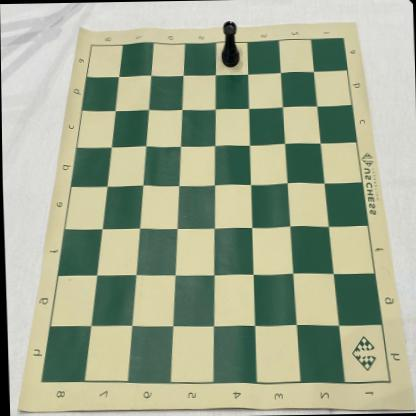black-rook: (220, 20, 239, 67)
